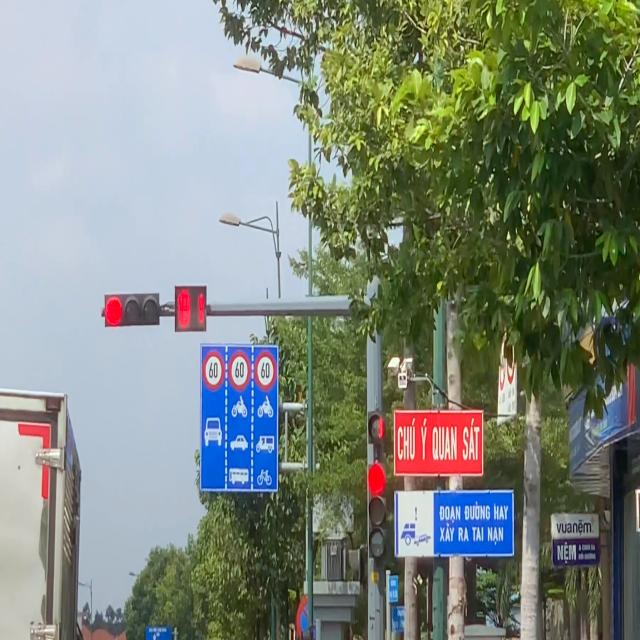Toc do toi da: (202, 350, 225, 393), (228, 350, 251, 393), (255, 351, 277, 391)
